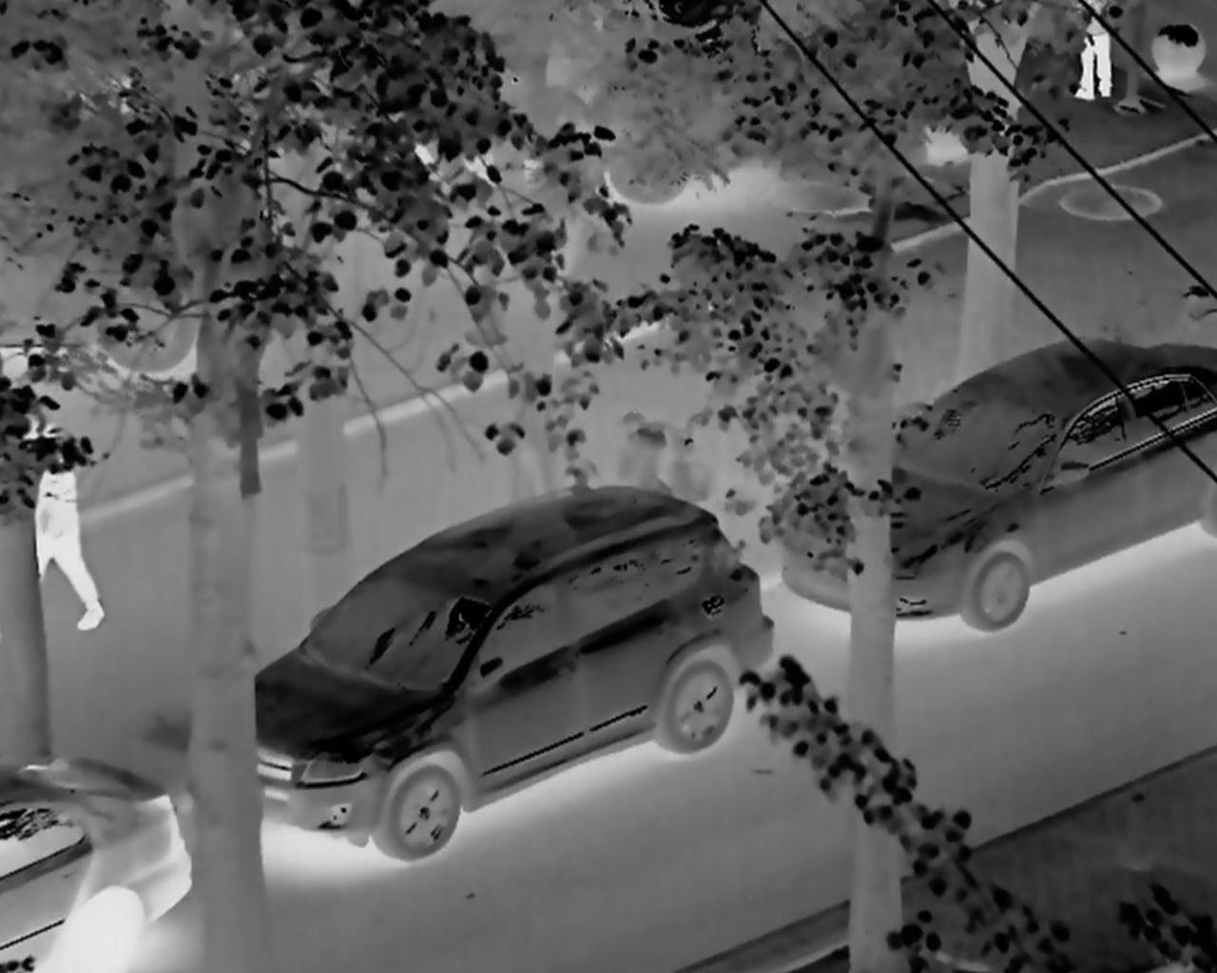person: (22, 416, 105, 631), (1069, 4, 1124, 105)
